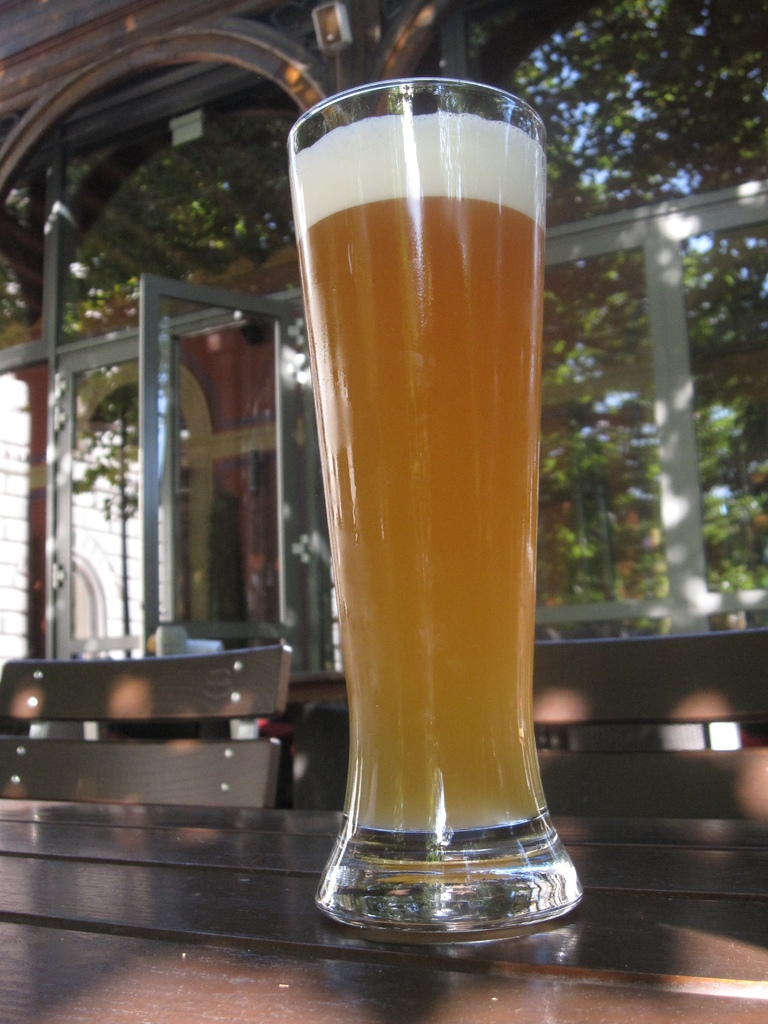Beer: (290, 113, 543, 835)
